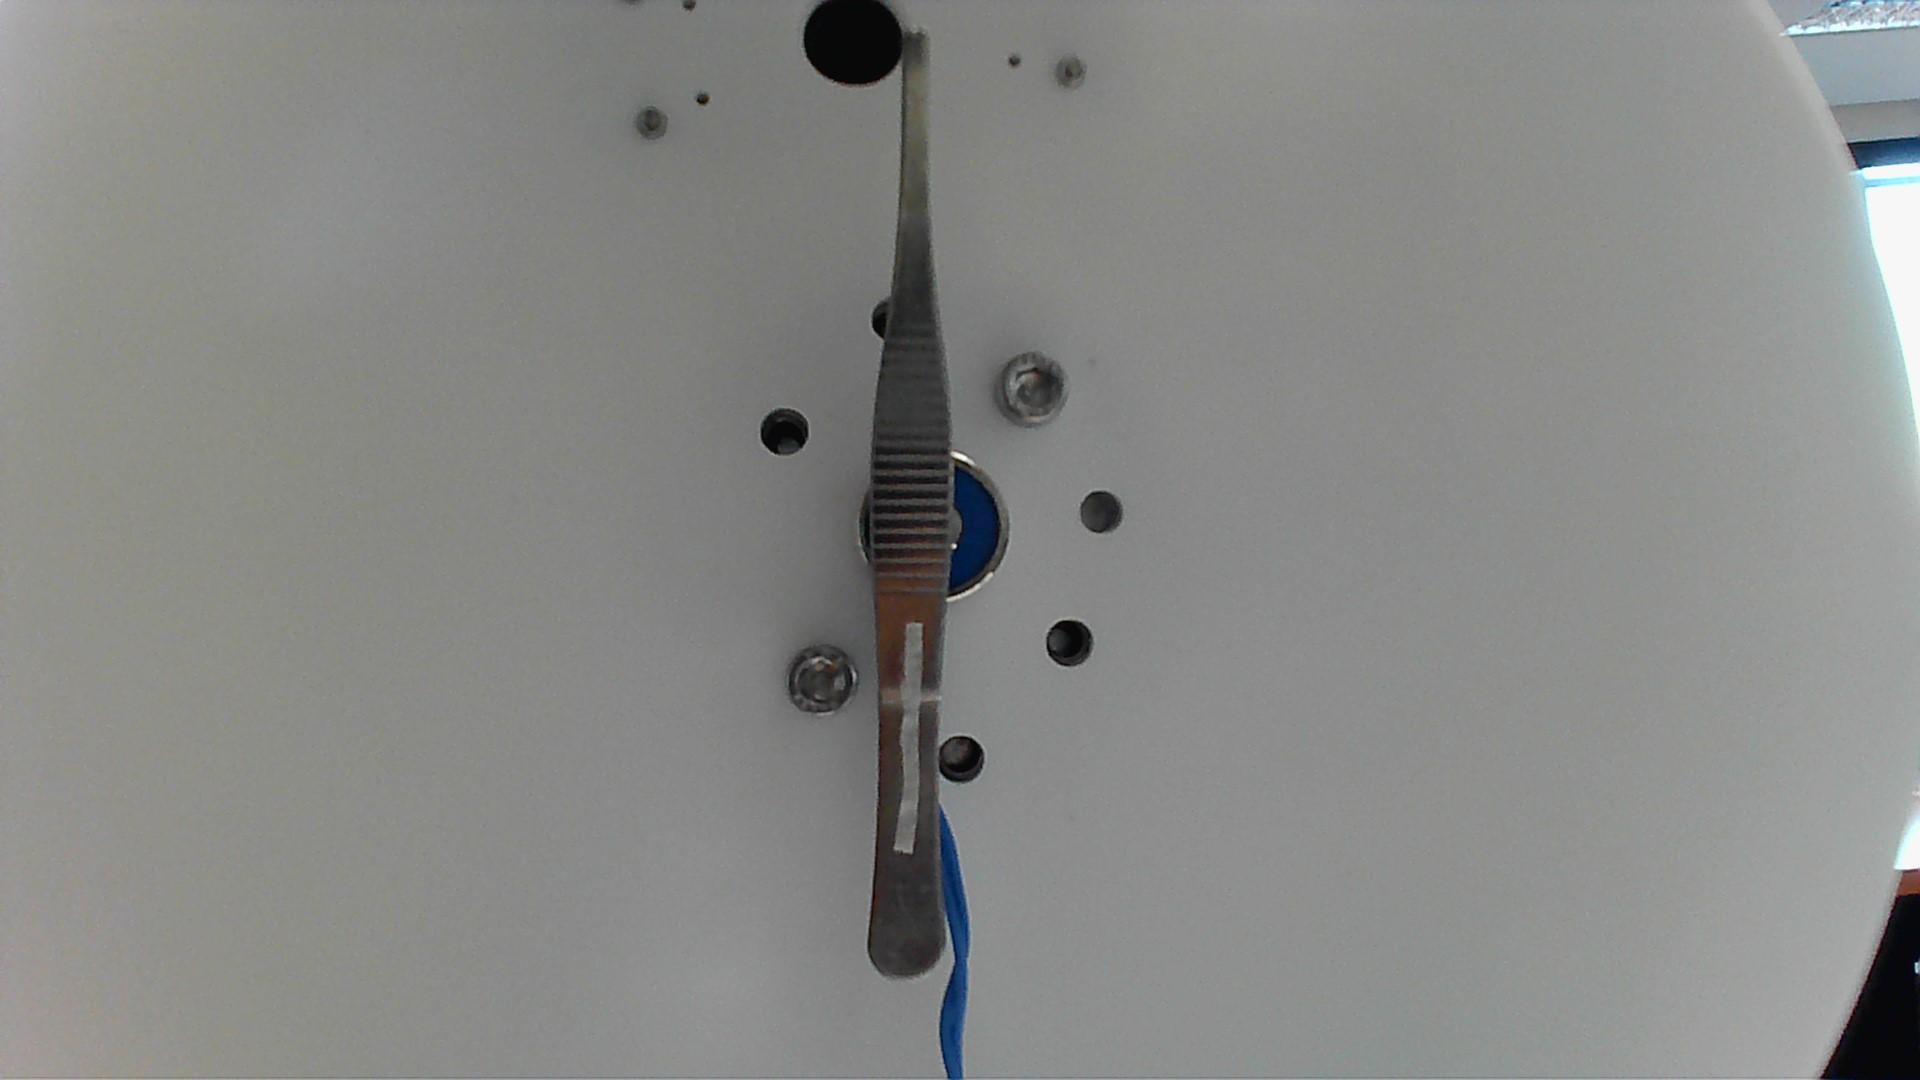Scratches: (891, 620, 932, 861)
